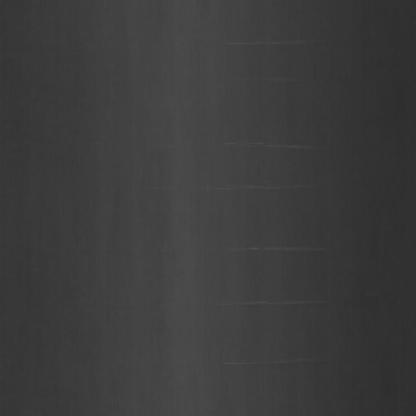waist_folding: (226, 45, 345, 352)
